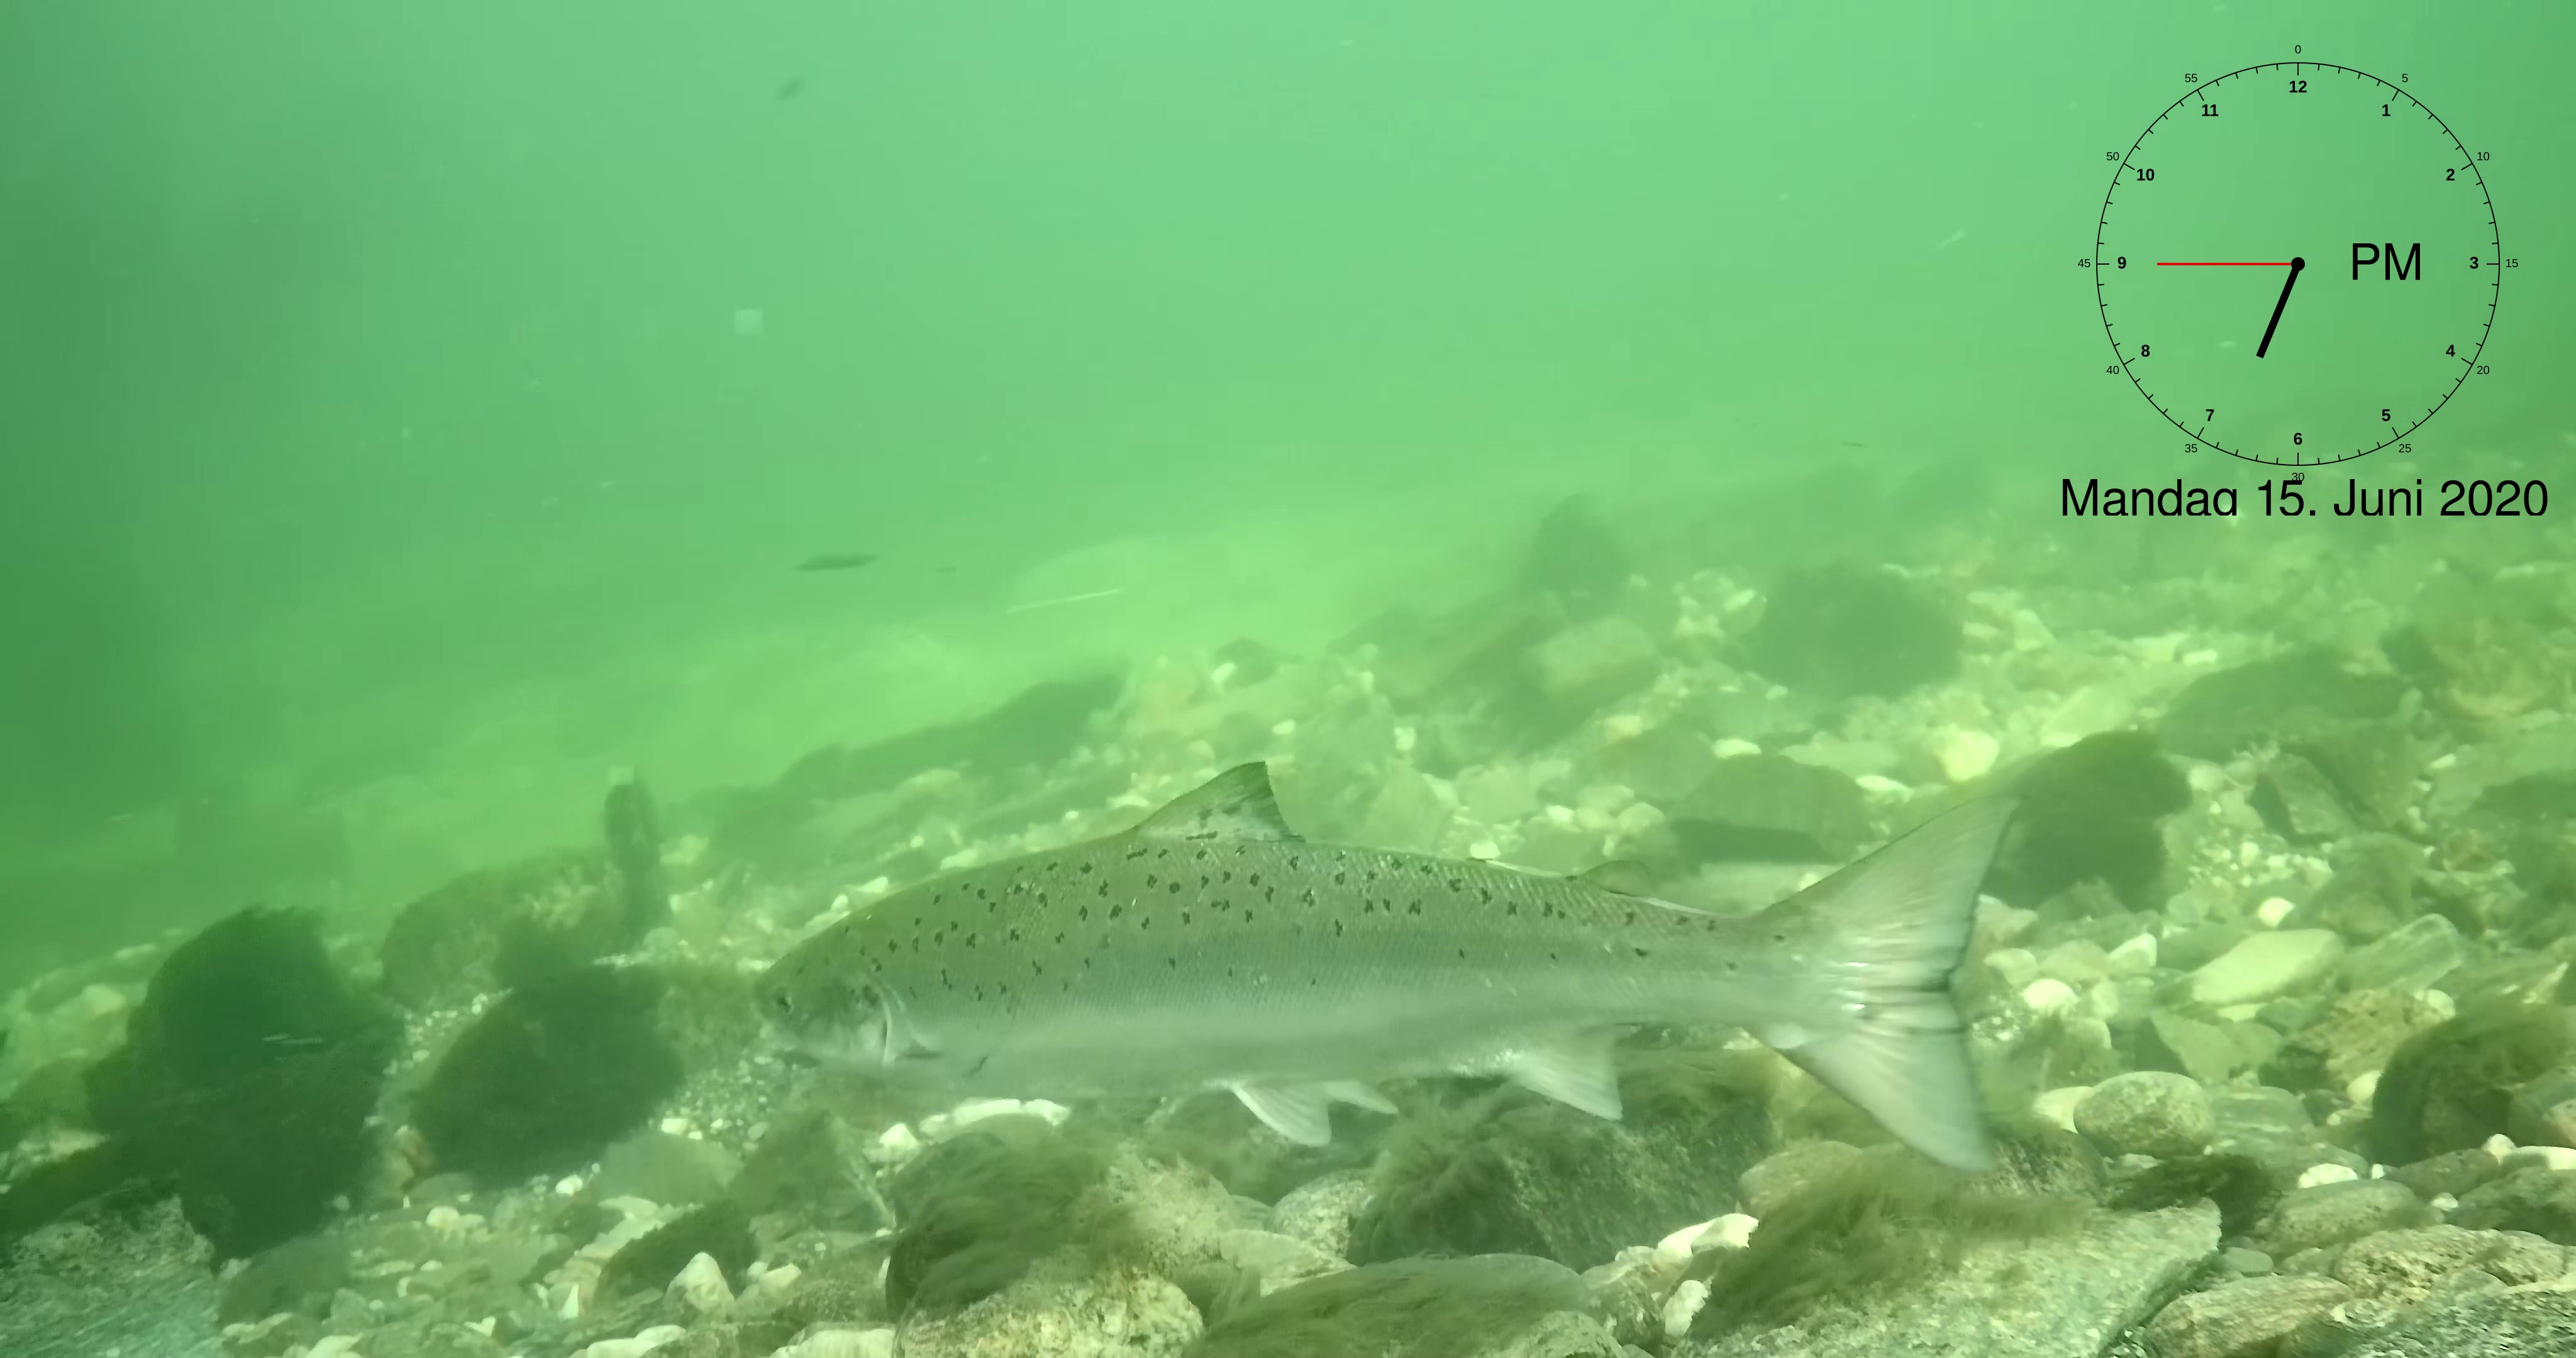salmon: (743, 758, 2034, 1177)
